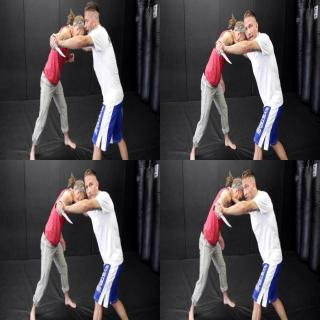knife: (212, 202, 232, 230), (213, 41, 233, 66), (54, 202, 74, 226), (47, 36, 67, 59)
